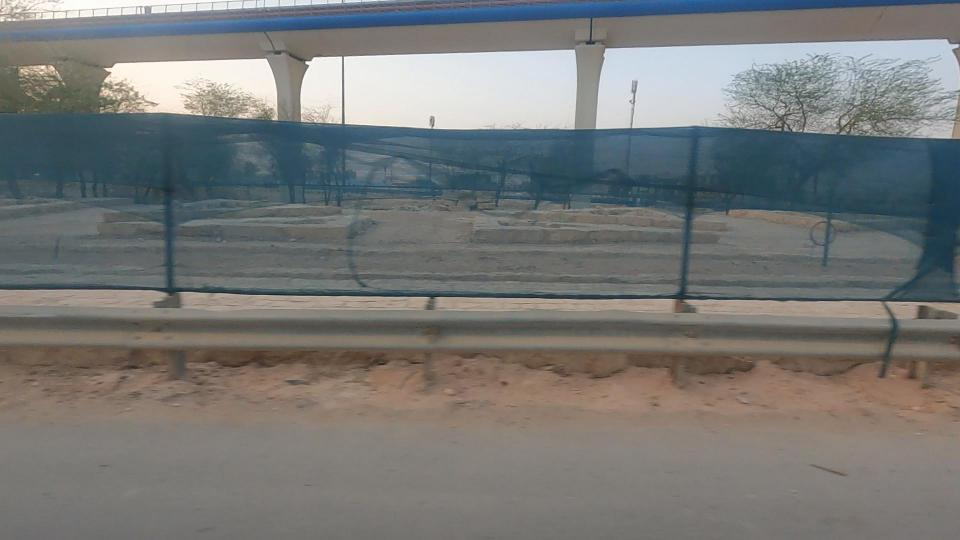CONSTRUCTION_ROAD: (0, 31, 482, 524), (278, 107, 960, 442)
